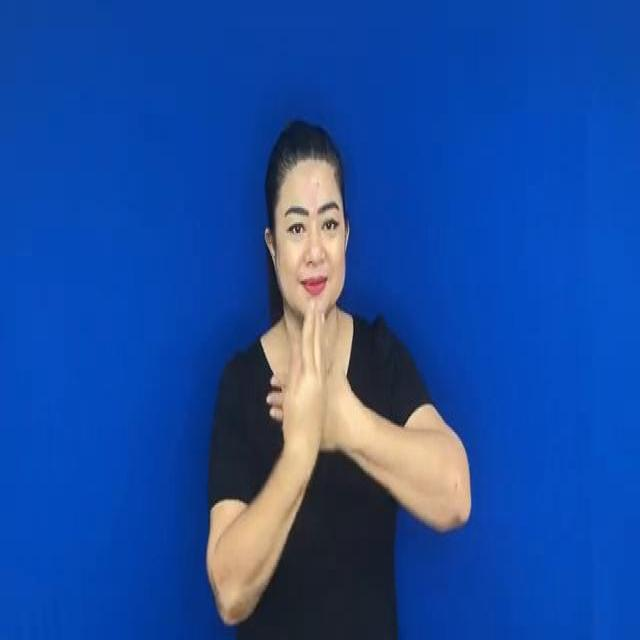bread: (265, 310, 370, 488)
